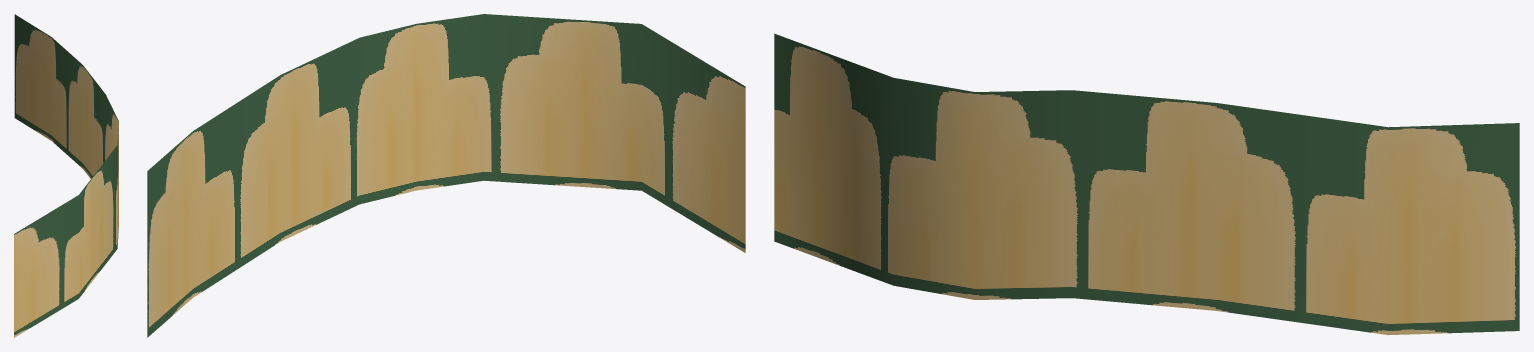
3 views of the same model, side by side, from view 1: azimuth 30°, elevation 25°; view 2: azimuth 150°, elevation 25°; view 3: azimuth 270°, elevation 25° (orthographic). The views are drawn at different scales.
Parts seen in each view (by area): view 1: dynamiclight.png__; view 2: dynamiclight.png__; view 3: dynamiclight.png__.
Part boxes in pixels (x1,y1,x2,y2): dynamiclight.png__: [14, 14, 118, 337]; dynamiclight.png__: [147, 14, 745, 337]; dynamiclight.png__: [774, 33, 1519, 335].
Bounding box in the file's own units: 79.33 × 58.9 × 134.
Materials: 1 (1 with a texture image).
